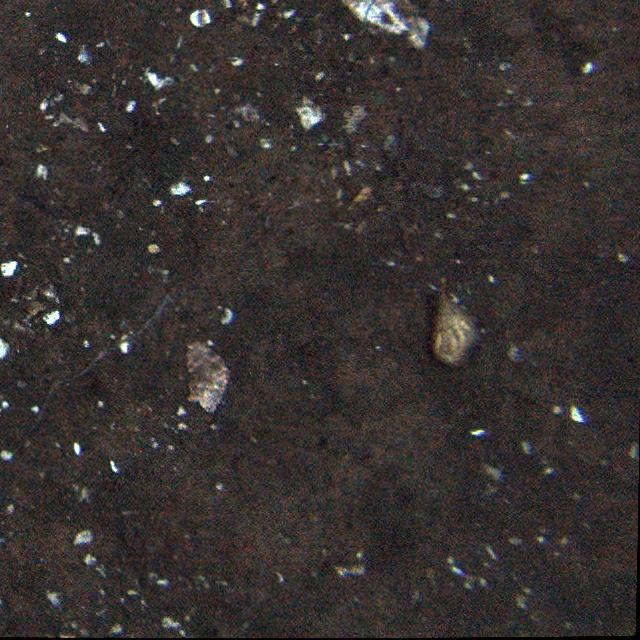whelk: (430, 281, 480, 366)
